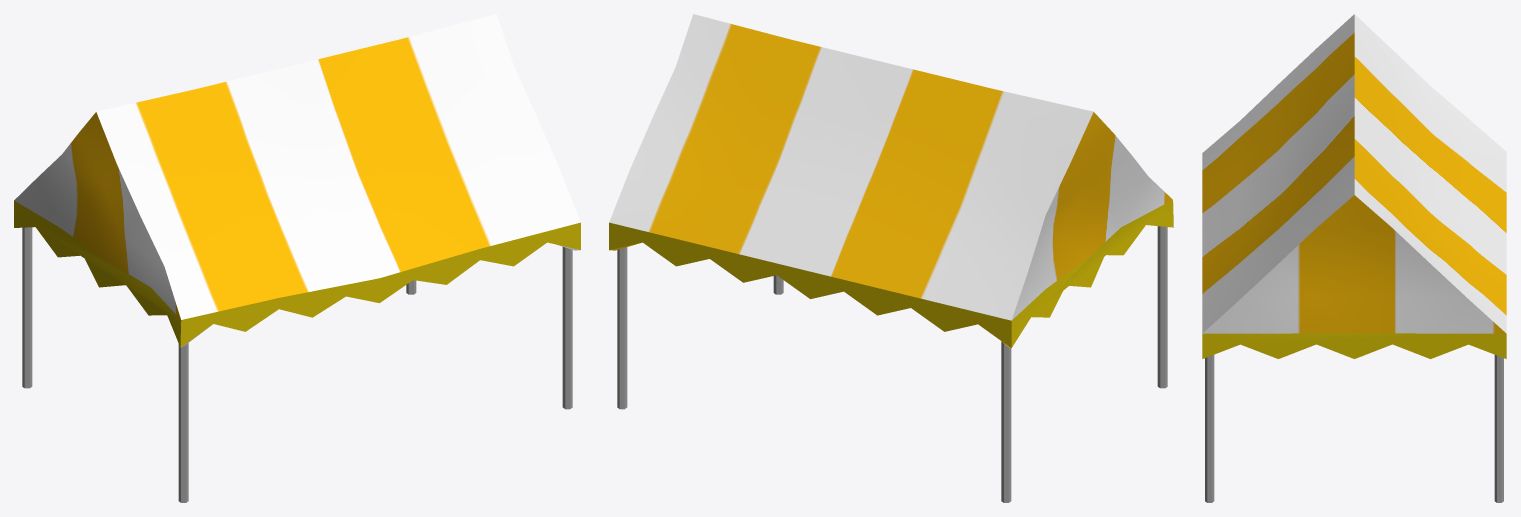
Rendered from tentoYELLOW1006.fbx.
3 renders of one model, left to right at view 1: azimuth 30°, elevation 25°; view 2: azimuth 150°, elevation 25°; view 3: azimuth 270°, elevation 25°, orthographic. The views are drawn at different scales.
Parts seen in each view (by area): view 1: Cube, Cylinder; view 2: Cube, Cylinder; view 3: Cube, Cylinder.
Boxes of the visible parts, bbox=[...] form: Cube: bbox=[14, 14, 580, 347]; Cylinder: bbox=[22, 227, 572, 502]; Cube: bbox=[609, 14, 1173, 347]; Cylinder: bbox=[617, 226, 1167, 502]; Cube: bbox=[1202, 14, 1506, 358]; Cylinder: bbox=[1205, 355, 1503, 502].
Size of the model in its own units: 400 by 318 by 283.
